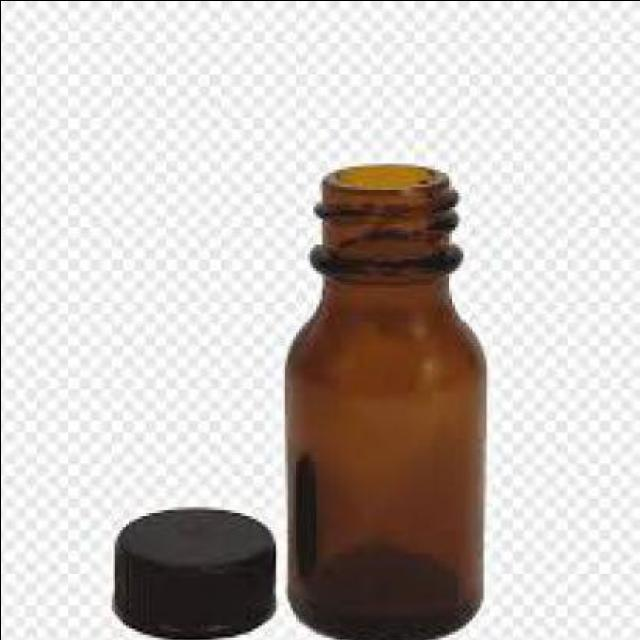kaca: (284, 161, 479, 640)
